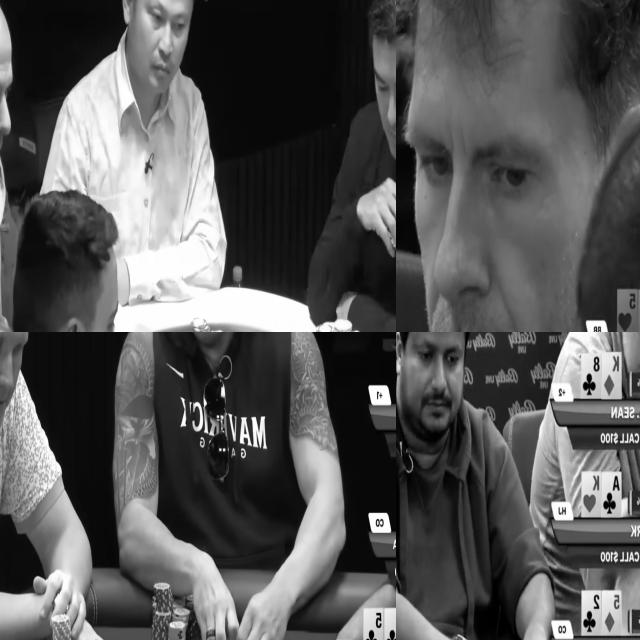2C: (581, 590, 602, 636)
5C: (364, 608, 383, 640)
5D: (602, 591, 622, 636)
5H: (618, 289, 636, 332)
7C: (384, 609, 396, 640)
8C: (580, 354, 602, 399)
AC: (601, 473, 621, 519)
KD: (601, 352, 622, 400)
KH: (581, 471, 602, 518)
